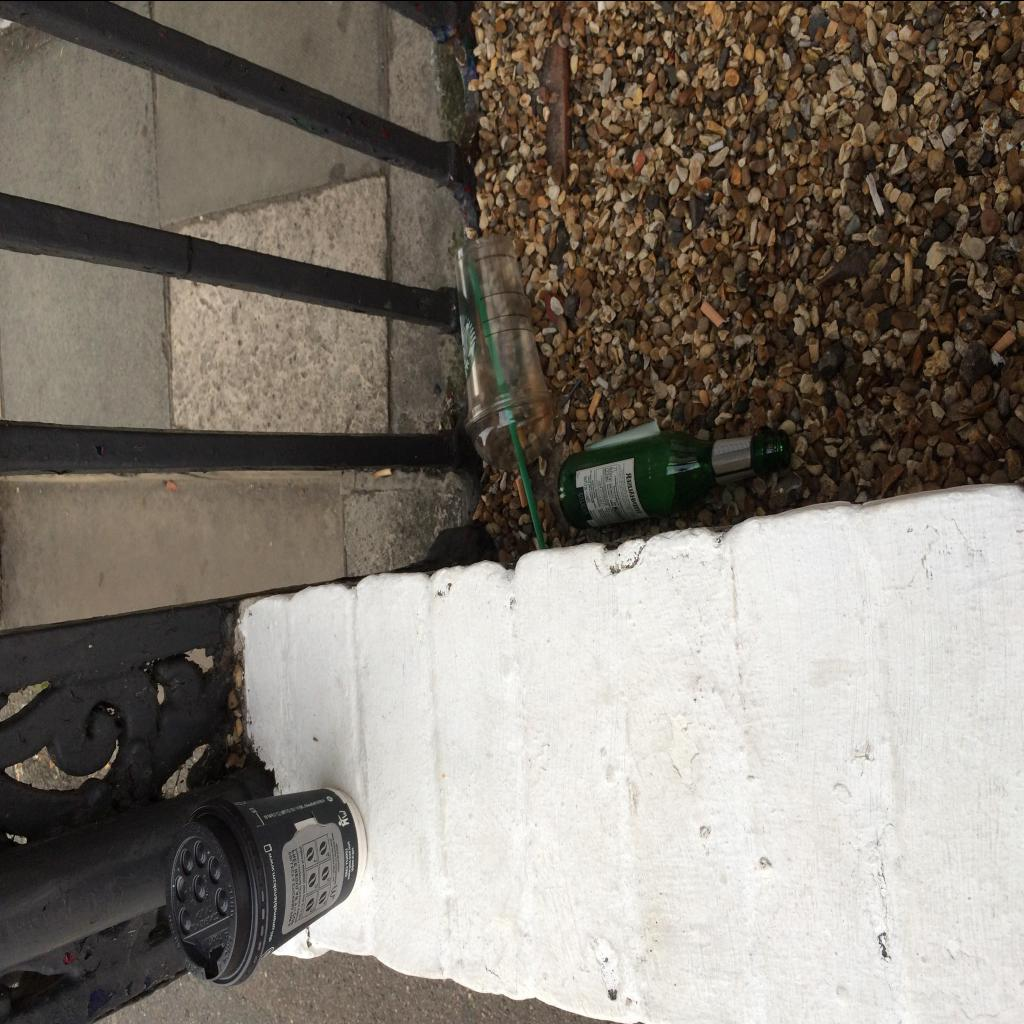Cigarette: (864, 170, 884, 215), (701, 299, 725, 327), (990, 328, 1016, 352), (904, 252, 914, 304), (589, 389, 602, 418), (516, 477, 528, 507), (518, 428, 530, 448), (373, 469, 391, 478)
Disposable plastic cup: (454, 234, 554, 432)
Glass bottle: (558, 428, 792, 529)
Paper cup: (230, 785, 368, 963)
Plastic lid: (164, 796, 268, 984), (464, 388, 554, 468)
Plastic straw: (476, 276, 546, 548)
